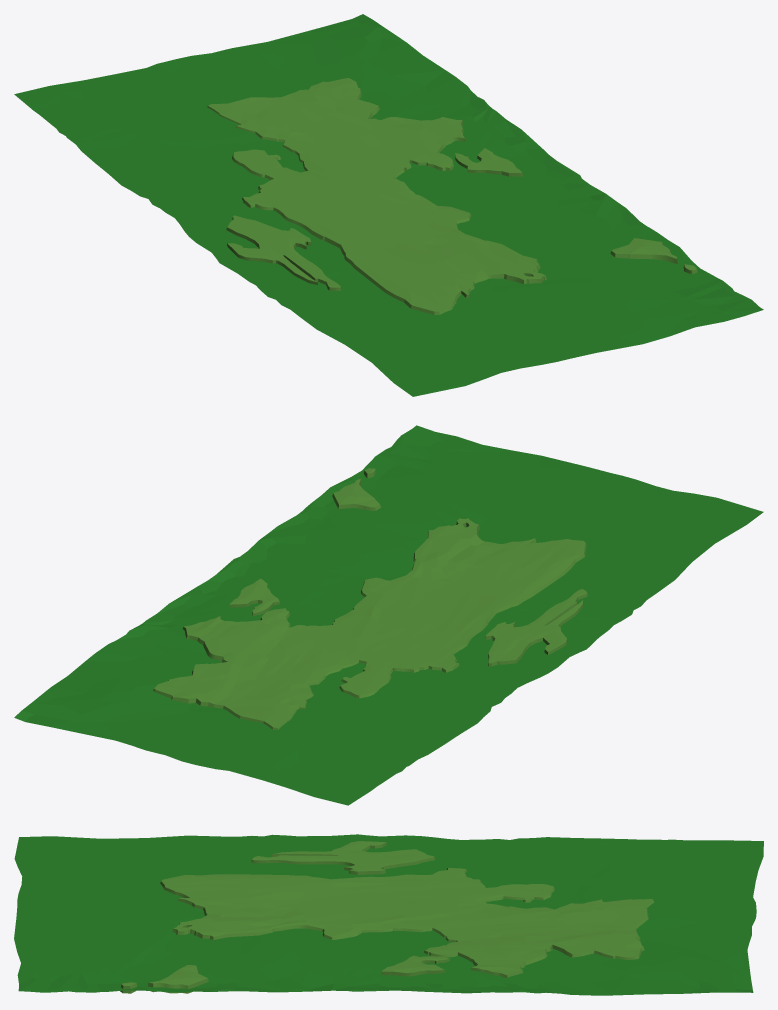
Rendered from grass_layer_block_A.fbx.
3 views of the same model, one above another, from view 1: azimuth 30°, elevation 25°; view 2: azimuth 150°, elevation 25°; view 3: azimuth 270°, elevation 25° (orthographic). The views are drawn at different scales.
Visible parts, largest first — view 1: placeholder_ground_grass_layer_block_A, grass_layer_block_A_A, grass_layer_block_A_B, grass_layer_block_A_C, grass_layer_block_A_D; view 2: placeholder_ground_grass_layer_block_A, grass_layer_block_A_A, grass_layer_block_A_B, grass_layer_block_A_C, grass_layer_block_A_D; view 3: placeholder_ground_grass_layer_block_A, grass_layer_block_A_A, grass_layer_block_A_B, grass_layer_block_A_C, grass_layer_block_A_D.
Part boxes in pixels (x1,y1,x2,y2): placeholder_ground_grass_layer_block_A: (14,14,763,396); grass_layer_block_A_A: (207,78,546,314); grass_layer_block_A_B: (226,215,340,290); grass_layer_block_A_C: (455,148,522,176); grass_layer_block_A_D: (610,238,677,263); placeholder_ground_grass_layer_block_A: (14,425,763,805); grass_layer_block_A_A: (153,518,586,729); grass_layer_block_A_B: (485,589,587,666); grass_layer_block_A_C: (229,578,279,616); grass_layer_block_A_D: (332,478,381,510); placeholder_ground_grass_layer_block_A: (14,834,763,995); grass_layer_block_A_A: (160,867,653,977); grass_layer_block_A_B: (251,841,434,875); grass_layer_block_A_C: (381,955,449,976); grass_layer_block_A_D: (148,965,208,993).
Bounding box in the file's own units: 3093 × 68.92 × 6024.
